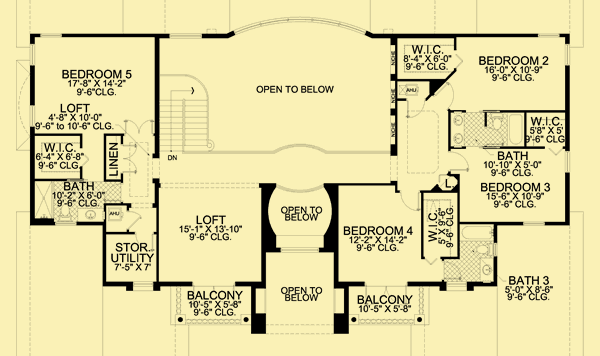door: (123, 118, 155, 134), (122, 143, 138, 174), (436, 83, 455, 108), (406, 97, 426, 120), (399, 191, 421, 211), (448, 151, 470, 171), (126, 208, 142, 229)
large_sink: (477, 241, 495, 257), (490, 111, 503, 129)
small_sink: (451, 111, 465, 147), (77, 207, 104, 222), (479, 257, 493, 281)
stairs: (159, 71, 215, 162)
tub: (506, 113, 526, 145), (458, 224, 495, 241)
windows: (232, 14, 366, 37), (280, 246, 320, 254), (131, 281, 155, 291), (169, 33, 203, 40), (27, 103, 36, 127), (37, 31, 64, 39), (28, 42, 36, 67), (564, 149, 571, 174), (537, 31, 561, 38), (520, 220, 546, 226), (565, 41, 571, 66)
